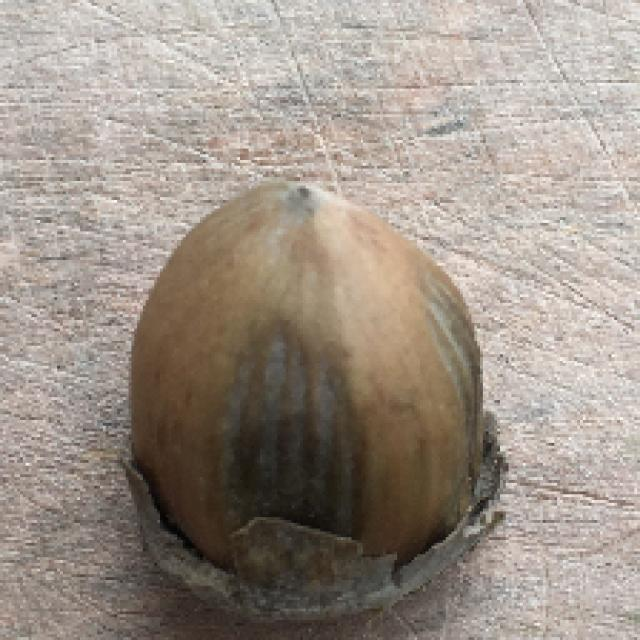damagedHazelnut: (110, 159, 514, 631)
